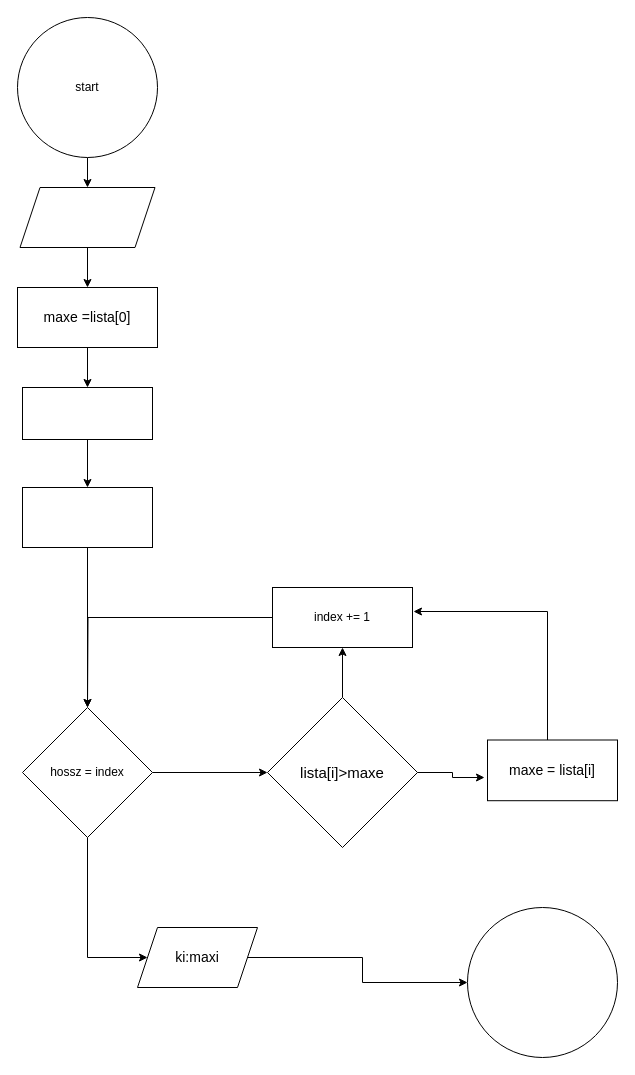
Some shapes in this 635 by 1075 pixel diagram are drawn without their labels. Each missing label, with the centre of its shape:
"be:lista" goes at (x=87, y=217).
"end" goes at (x=542, y=982).
"hossz = lista.lenght" goes at (x=87, y=413).
"index = lista[0]" goes at (x=87, y=517).
